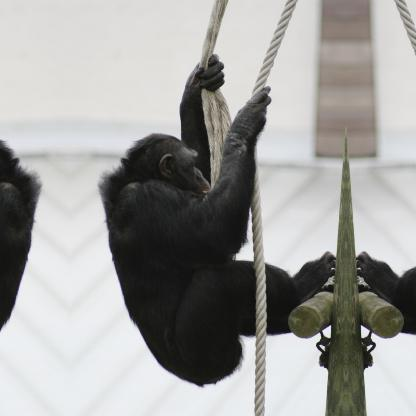Monkey: (97, 55, 334, 386), (357, 54, 415, 386)
